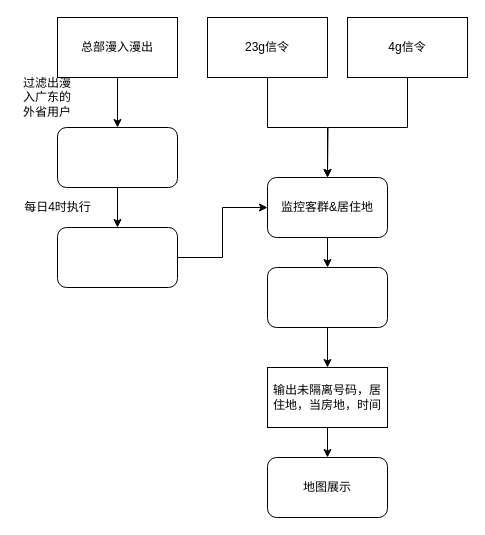
This 485x535 diagram has some shape labels left out. The box of each missing label's shape, as (x1, y1, x2, y2) in pixels:
是否离开 隔离天数: (266, 266, 388, 328)
漫入广东用户: (56, 126, 178, 188)
用户工作地判断: (56, 226, 178, 288)
